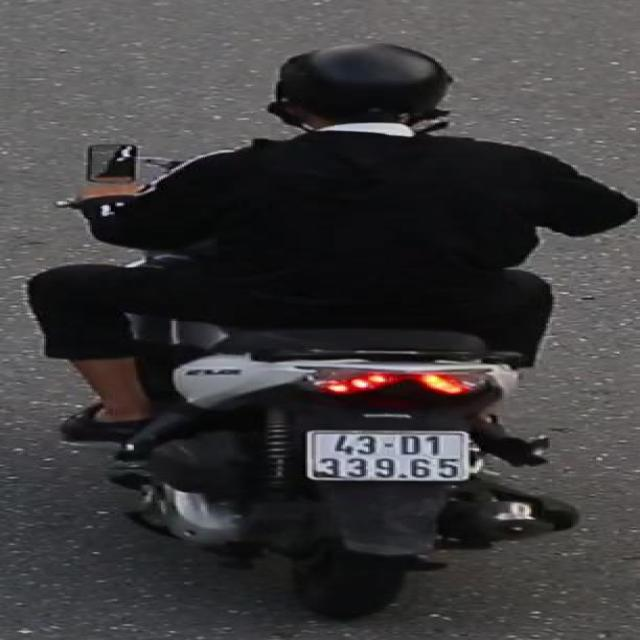LP: (293, 422, 481, 484)
helmet: (246, 39, 461, 147)
